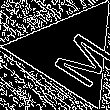M_NW: (32, 19, 107, 86)
